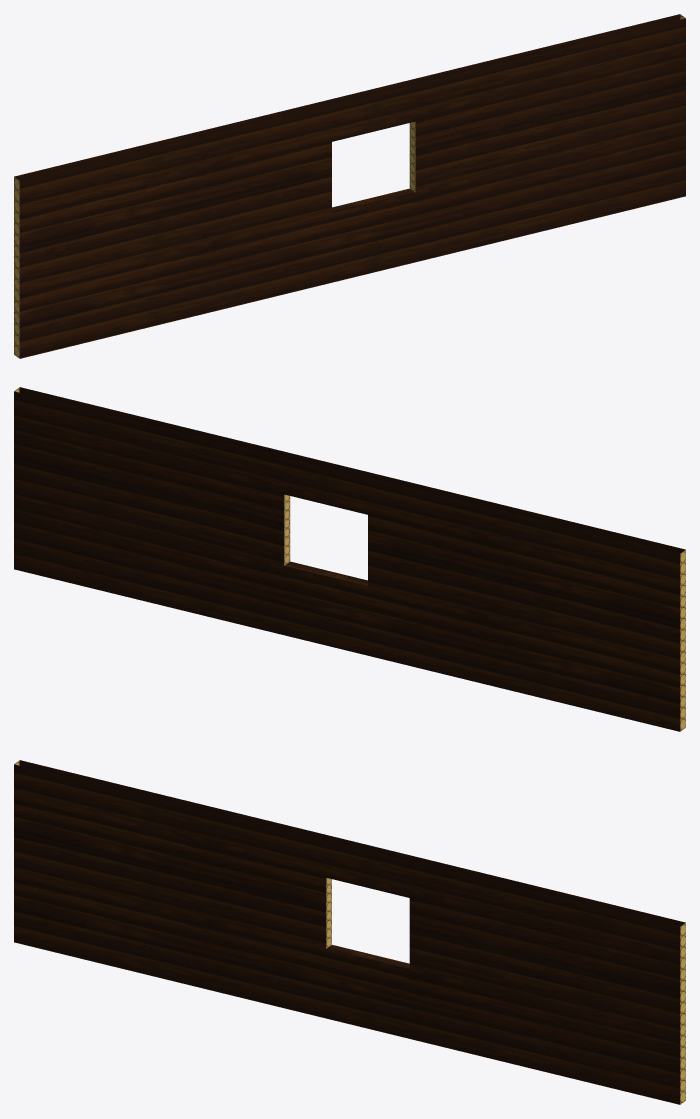
The model's file is Wall with window house 3.fbx.
3 renders of one model, top to bottom at view 1: azimuth 30°, elevation 25°; view 2: azimuth 150°, elevation 25°; view 3: azimuth 330°, elevation 25°, orthographic.
Visible parts, largest first — view 1: Plain_short_wall__house_3_window1; view 2: Plain_short_wall__house_3_window1; view 3: Plain_short_wall__house_3_window1.
Part boxes in pixels (<box>): Plain_short_wall__house_3_window1: <box>14,14,685,358</box>; Plain_short_wall__house_3_window1: <box>14,387,685,731</box>; Plain_short_wall__house_3_window1: <box>14,760,685,1104</box>.
Bounding box in the file's own units: 11.24 × 2.87 × 0.1702.
